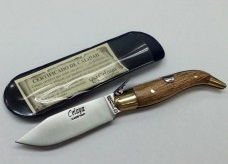knife: (10, 86, 134, 149)
